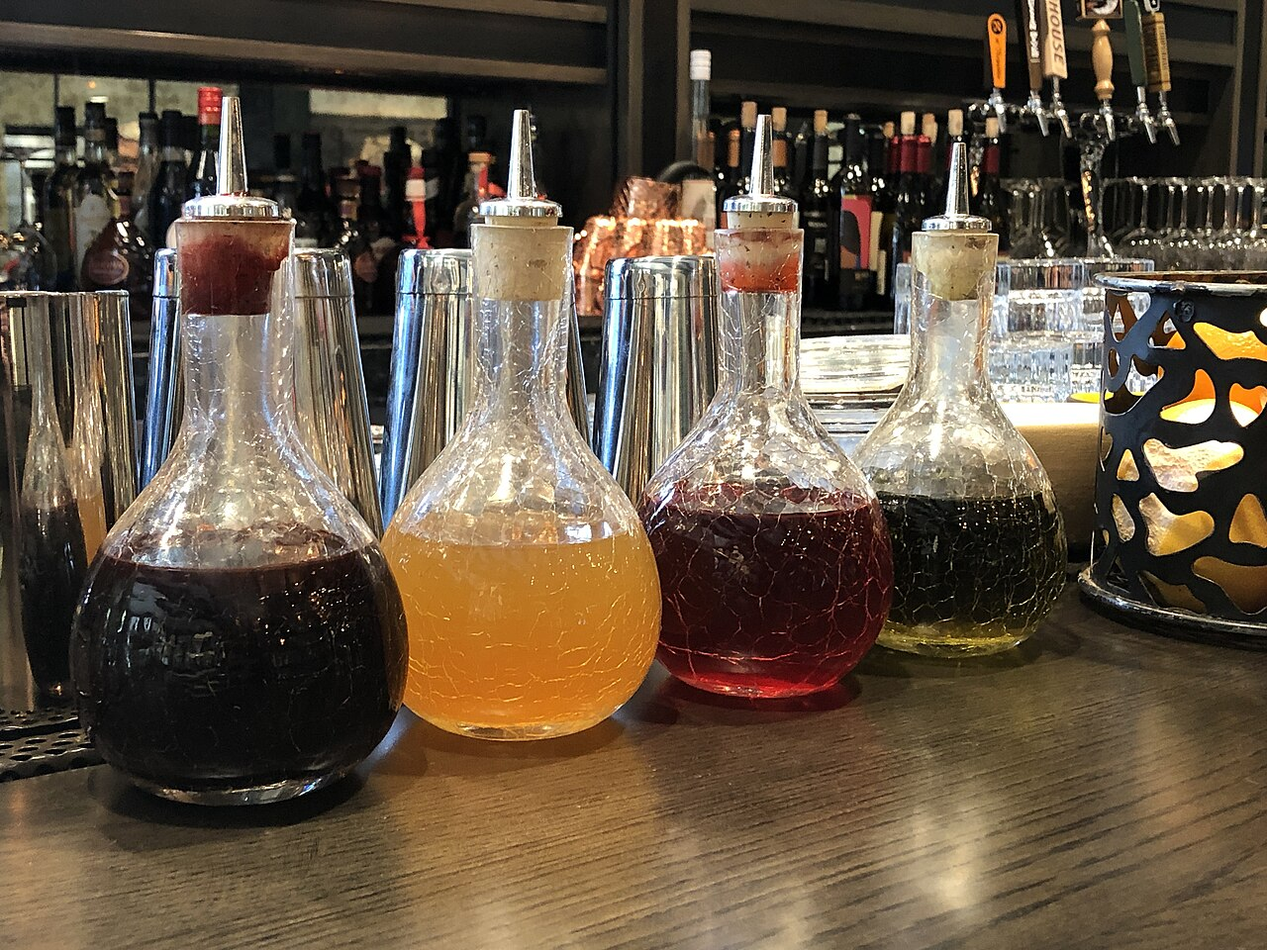unknown_bottle: (885, 115, 931, 330), (830, 118, 875, 311), (800, 115, 842, 309), (138, 109, 190, 255), (42, 106, 83, 291), (865, 129, 900, 310), (293, 131, 337, 247), (973, 136, 1012, 255), (186, 86, 223, 201), (768, 107, 798, 205)
